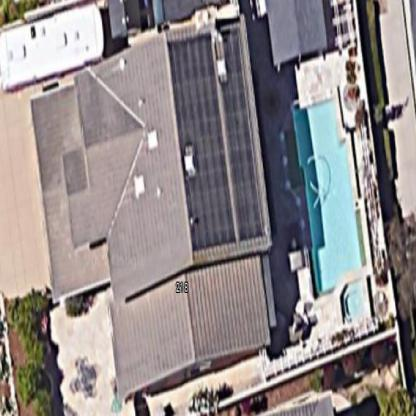pool: (288, 83, 366, 305)
